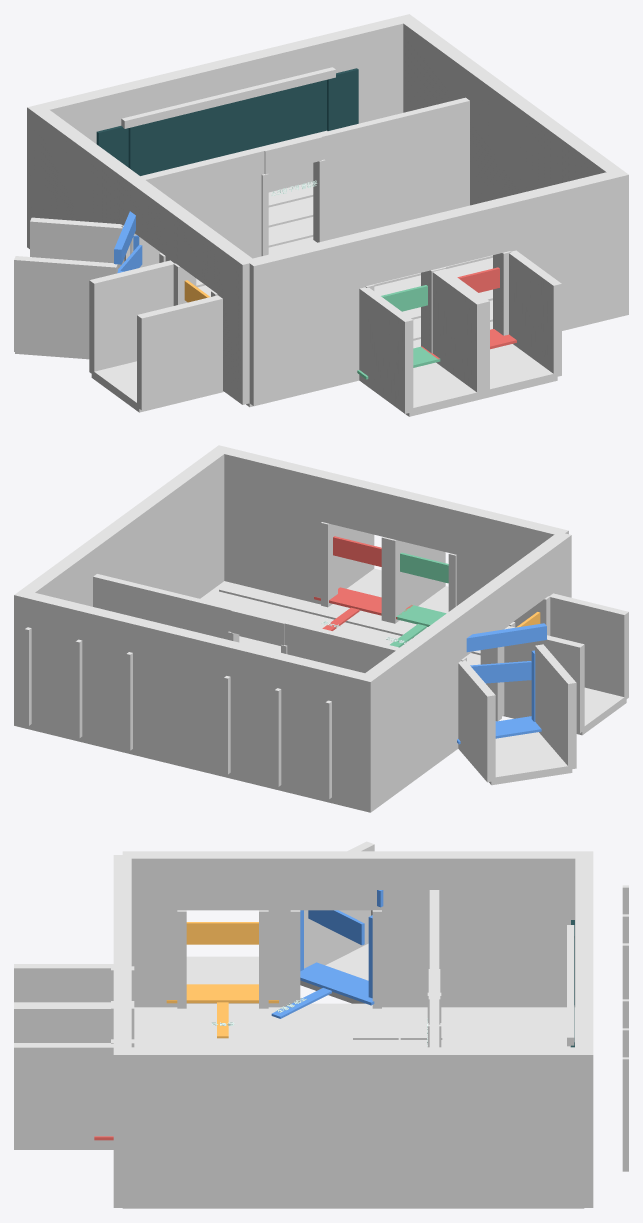
Rendered from control_room_shell.glb.
The picture shows the model from 3 angles, top to bottom: view 1: azimuth 30°, elevation 25°; view 2: azimuth 150°, elevation 25°; view 3: azimuth 270°, elevation 25°; orthographic projection. The views are drawn at different scales.
Parts seen in each view (by area): view 1: east solid control room wall with no corridor, north solid future screen wall shell, south attached cargo and weapon sealed wall segment 1, internal partition right wall between entry and screen side, south attached cargo and weapon sealed final wall segment, blank future main screen recessed wall bay, west wall separated sealed final segment, engine room left separated corridor side wall +0.98, cockpit 40 degree outside only corridor side wall +0.96, internal partition left wall between entry and screen side, engine room left separated corridor side wall -0.98, cargo bay south attached corridor side wall -0.92 (+26 smaller); view 2: north solid future screen wall shell, east solid control room wall with no corridor, south attached cargo and weapon sealed final wall segment, west wall separated sealed final segment, south attached cargo and weapon sealed wall segment 1, engine room left separated corridor side wall +0.98, internal partition right wall between entry and screen side, sealed control room deck floor, cockpit 40 degree outside only corridor side wall +0.96, cockpit 40 degree outside only corridor side wall -0.96, internal partition left wall between entry and screen side, south attached cargo and weapon weapon room doorway upper he (+30 smaller); view 3: east solid control room wall with no corridor, west wall separated sealed final segment, sealed control room deck floor, weapon room south attached corridor side wall +0.92, west wall separated sealed segment 1, north solid future screen wall shell, west cockpit angled doorway upper header, west engine room doorway upper header, west wall separated sealed segment 2, cargo bay south attached corridor side wall -0.92, cargo bay south attached corridor side wall +0.92, cockpit 40 degree outside only corridor side wall +0.96 (+20 smaller).
Boxes of the visible parts, x1,y1,x2,y2 form: east solid control room wall with no corridor: (396, 14, 628, 317); north solid future screen wall shell: (27, 14, 414, 248); south attached cargo and weapon sealed wall segment 1: (247, 232, 369, 406); internal partition right wall between entry and screen side: (317, 97, 469, 240); south attached cargo and weapon sealed final wall segment: (498, 171, 621, 330); blank future main screen recessed wall bay: (128, 80, 326, 175); west wall separated sealed final segment: (31, 110, 139, 225); engine room left separated corridor side wall +0.98: (137, 295, 222, 410); cockpit 40 degree outside only corridor side wall +0.96: (14, 256, 117, 357); internal partition left wall between entry and screen side: (141, 147, 264, 266); engine room left separated corridor side wall -0.98: (89, 260, 174, 373); cargo bay south attached corridor side wall -0.92: (359, 287, 413, 413); north solid future screen wall shell: (14, 589, 378, 812); east solid control room wall with no corridor: (14, 445, 231, 723); south attached cargo and weapon sealed final wall segment: (219, 447, 332, 604); west wall separated sealed final segment: (362, 611, 462, 806); south attached cargo and weapon sealed wall segment 1: (453, 504, 568, 627); engine room left separated corridor side wall +0.98: (549, 593, 628, 700); internal partition right wall between entry and screen side: (93, 574, 235, 639); sealed control room deck floor: (200, 581, 480, 665); cockpit 40 degree outside only corridor side wall +0.96: (535, 644, 576, 768); cockpit 40 degree outside only corridor side wall -0.96: (458, 660, 495, 782); internal partition left wall between entry and screen side: (284, 620, 399, 672); south attached cargo and weapon weapon room doorway upper he: (325, 473, 393, 537); east solid control room wall with no corridor: (113, 1047, 593, 1207); west wall separated sealed final segment: (377, 851, 583, 1007); sealed control room deck floor: (122, 1003, 584, 1208); weapon room south attached corridor side wall +0.92: (14, 1043, 113, 1147); west wall separated sealed segment 1: (122, 851, 181, 1007); north solid future screen wall shell: (575, 851, 593, 1207); west cockpit angled doorway upper header: (295, 851, 377, 910); west engine room doorway upper header: (182, 851, 263, 910); west wall separated sealed segment 2: (264, 851, 295, 1007); cargo bay south attached corridor side wall -0.92: (14, 964, 113, 1002); cargo bay south attached corridor side wall +0.92: (14, 1004, 110, 1042); cockpit 40 degree outside only corridor side wall +0.96: (301, 841, 374, 981).
Bounding box in the file's own units: 11.94 × 3.29 × 11.65.
